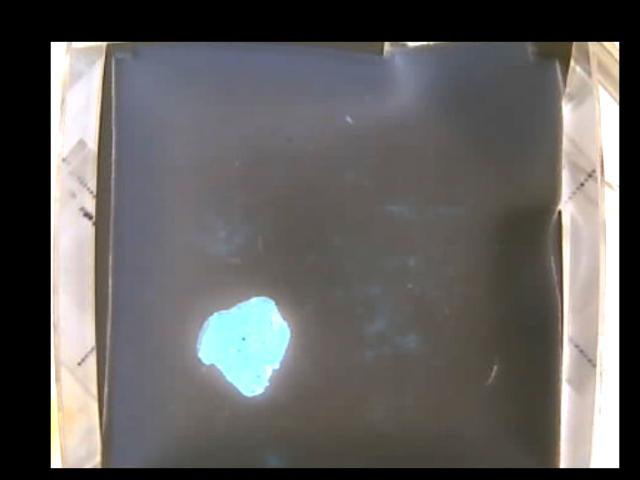Brisk: (196, 298, 288, 397)
